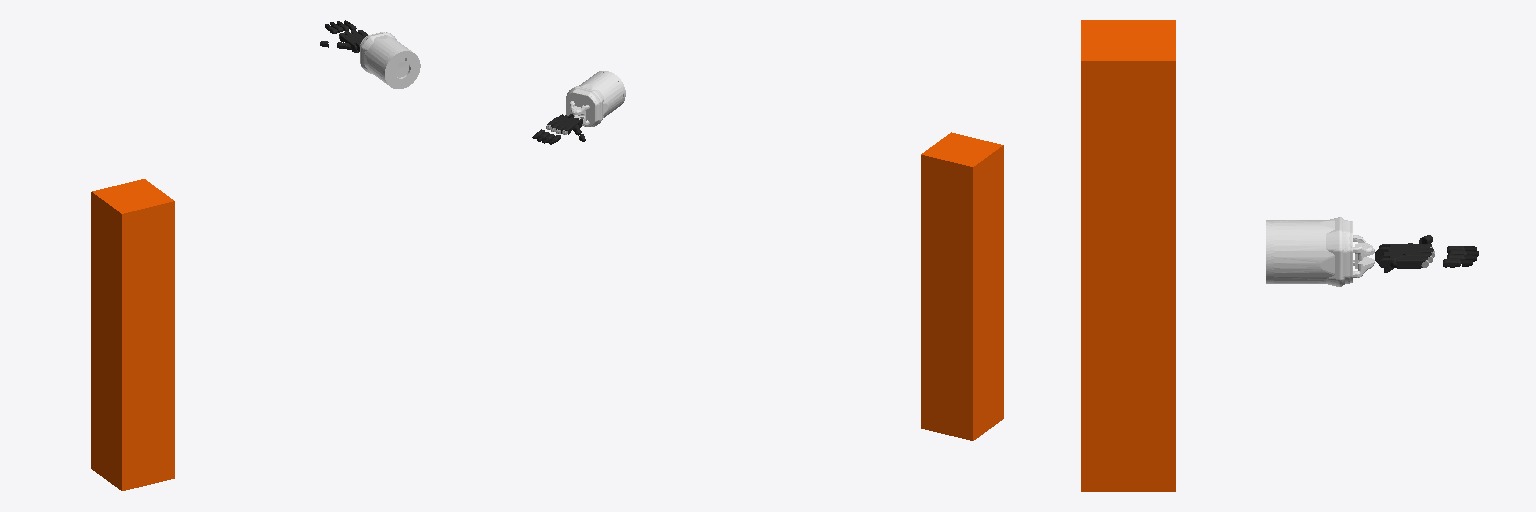
--- Facts derived from the render (not from the file) ---
Views: 3 orthographic renders of the robot side by side, from view 1: azimuth 30°, elevation 25°; view 2: azimuth 150°, elevation 25°; view 3: azimuth 270°, elevation 25°.
Model shadow_hand_on_ur10e with 45 links and 44 joints (30 revolute, 14 fixed), rooted at world, posed every joint at zero.
Links seen in each view (by area): view 1: arm_base, rh_forearm; view 2: arm_base, rh_forearm; view 3: arm_base, rh_forearm, rh_palm.
Boxes of the visible links, x1,y1,x2,y2 form: arm_base: (91, 179, 174, 490); rh_forearm: (360, 32, 420, 88); arm_base: (921, 132, 1003, 440); rh_forearm: (566, 71, 625, 126); arm_base: (1081, 20, 1175, 491); rh_forearm: (1266, 217, 1374, 286); rh_palm: (1375, 244, 1433, 272).
Bounding box of the posed robot: 1.35 × 0.8387 × 1.13 m (x, y, z).
Meshes: 18 distinct files referenced, 17 mesh visuals loaded (8 Collada DAE); not drawn: 13 (reference not matched to a file when rendering).

URDF robot description (shadow_hand_on_ur10e):
<?xml version="1.0" ?>
<!-- =================================================================================== -->
<!-- |    This document was autogenerated by xacro from shadow_hand_on_ur10e.urdf.xacro | -->
<!-- |    EDITING THIS FILE BY HAND IS NOT RECOMMENDED                                 | -->
<!-- =================================================================================== -->
<robot name="shadow_hand_on_ur10e" xmlns:controller="http://playerstage.sourceforge.net/gazebo/xmlschema/#controller" xmlns:interface="http://playerstage.sourceforge.net/gazebo/xmlschema/#interface" xmlns:sensor="http://playerstage.sourceforge.net/gazebo/xmlschema/#sensor">
  <!-- arm base, orange block/mount for ur5 or ur10 arm -->
  <!-- ################################################################### -->
  <!-- "arm base" : make box to elevate the robot arm -->
  <!-- fix arm base, so that it does not fall -->
  <link name="world"/>
  <joint name="world_to_robot" type="fixed">
    <parent link="world"/>
    <child link="arm_base"/>
    <origin rpy="0 0 0" xyz="0 0 0"/>
  </joint>
  <link name="arm_base">
    <visual>
      <origin rpy="0 0 0" xyz="0 0 0.5"/>
      <geometry>
        <box size="0.2 0.2 1.0"/>
      </geometry>
      <material name="orange">
        <!-- rviz will read this color -->
        <color rgba="1.0 0.4235294117647059 0.0392156862745098 1.0"/>
      </material>
    </visual>
    <collision>
      <origin rpy="0 0 0" xyz="0 0 0.5"/>
      <geometry>
        <box size="0.2 0.2 1.0"/>
      </geometry>
    </collision>
    <inertial>
      <origin rpy="0 0 0" xyz="0 0 0"/>
      <mass value="8.2573504e-01"/>
      <inertia ixx="2.2124416e-03" ixy="-1.2294101e-05" ixz="3.4938785e-05" iyy="2.1193702e-03" iyz="-5.0120904e-06" izz="2.0064271e-03"/>
    </inertial>
  </link>
  <gazebo reference="arm_base">
    <material>Gazebo/Orange</material>
    <!-- gazebo will read this color -->
  </gazebo>
  <!--ur10e without ros control-->
  <!-- ################################################################### -->
  <!-- ur10e arm -->
  <!--
    Base UR robot series xacro macro.

    NOTE: this is NOT a URDF. It cannot directly be loaded by consumers
    expecting a flattened '.urdf' file. See the top-level '.xacro' for that
    (but note: that .xacro must still be processed by the xacro command).

    For use in '.launch' files: use one of the 'load_urX.launch' convenience
    launch files.

    This file models the base kinematic chain of a UR robot, which then gets
    parameterised by various configuration files to convert it into a UR3(e),
    UR5(e), UR10(e) or UR16e.

    NOTE: the default kinematic parameters (ie: link lengths, frame locations,
    offets, etc) do not correspond to any particular robot. They are defaults
    only. There WILL be non-zero offsets between the Forward Kinematics results
    in TF (ie: robot_state_publisher) and the values reported by the Teach
    Pendant.

    For accurate (and robot-specific) transforms, the 'kinematics_parameters_file'
    parameter MUST point to a .yaml file containing the appropriate values for
    the targetted robot.

    If using the UniversalRobots/Universal_Robots_ROS_Driver, follow the steps
    described in the readme of that repository to extract the kinematic
    calibration from the controller and generate the required .yaml file.

    Main author of the migration to yaml configs: Ludovic Delval.

    Contributors to previous versions (in no particular order):

     - Felix Messmer
     - Kelsey Hawkins
     - Wim Meeussen
     - Shaun Edwards
     - Nadia Hammoudeh Garcia
     - Dave Hershberger
     - G. vd. Hoorn
     - Philip Long
     - Dave Coleman
     - Miguel Prada
     - Mathias Luedtke
     - Marcel Schnirring
     - Felix von Drigalski
     - Felix Exner
     - Jimmy Da Silva
     - Ajit Krisshna N L
     - Muhammad Asif Rana
  -->
  <!--
    NOTE: the macro defined in this file is NOT part of the public API of this
          package. Users CANNOT rely on this file being available, or stored in
          this location. Nor can they rely on the existence of the macro.
  -->
  <transmission name="ur10e_shoulder_pan_trans">
    <type>transmission_interface/SimpleTransmission</type>
    <joint name="ur10e_shoulder_pan_joint">
      <hardwareInterface>hardware_interface/PositionJointInterface</hardwareInterface>
    </joint>
    <actuator name="ur10e_shoulder_pan_motor">
      <mechanicalReduction>1</mechanicalReduction>
    </actuator>
  </transmission>
  <transmission name="ur10e_shoulder_lift_trans">
    <type>transmission_interface/SimpleTransmission</type>
    <joint name="ur10e_shoulder_lift_joint">
      <hardwareInterface>hardware_interface/PositionJointInterface</hardwareInterface>
    </joint>
    <actuator name="ur10e_shoulder_lift_motor">
      <mechanicalReduction>1</mechanicalReduction>
    </actuator>
  </transmission>
  <transmission name="ur10e_elbow_trans">
    <type>transmission_interface/SimpleTransmission</type>
    <joint name="ur10e_elbow_joint">
      <hardwareInterface>hardware_interface/PositionJointInterface</hardwareInterface>
    </joint>
    <actuator name="ur10e_elbow_motor">
      <mechanicalReduction>1</mechanicalReduction>
    </actuator>
  </transmission>
  <transmission name="ur10e_wrist_1_trans">
    <type>transmission_interface/SimpleTransmission</type>
    <joint name="ur10e_wrist_1_joint">
      <hardwareInterface>hardware_interface/PositionJointInterface</hardwareInterface>
    </joint>
    <actuator name="ur10e_wrist_1_motor">
      <mechanicalReduction>1</mechanicalReduction>
    </actuator>
  </transmission>
  <transmission name="ur10e_wrist_2_trans">
    <type>transmission_interface/SimpleTransmission</type>
    <joint name="ur10e_wrist_2_joint">
      <hardwareInterface>hardware_interface/PositionJointInterface</hardwareInterface>
    </joint>
    <actuator name="ur10e_wrist_2_motor">
      <mechanicalReduction>1</mechanicalReduction>
    </actuator>
  </transmission>
  <transmission name="ur10e_wrist_3_trans">
    <type>transmission_interface/SimpleTransmission</type>
    <joint name="ur10e_wrist_3_joint">
      <hardwareInterface>hardware_interface/PositionJointInterface</hardwareInterface>
    </joint>
    <actuator name="ur10e_wrist_3_motor">
      <mechanicalReduction>1</mechanicalReduction>
    </actuator>
  </transmission>
  <!-- links: main serial chain -->
  <link name="ur10e_base_link">
    <inertial>
      <mass value="0.0"/>
      <origin rpy="0 0 0" xyz="0 0 0"/>
      <inertia ixx="0.0" ixy="0.0" ixz="0.0" iyy="0.0" iyz="0.0" izz="0.0"/>
    </inertial>
  </link>
  <link name="ur10e_base_link_inertia">
    <visual>
      <origin rpy="0 0 3.141592653589793" xyz="0 0 0"/>
      <geometry>
        <mesh filename="package://ur_description/meshes/ur10e/visual/base.dae"/>
      </geometry>
      <material name="LightGrey">
        <color rgba="0.7 0.7 0.7 1.0"/>
      </material>
    </visual>
    <collision>
      <origin rpy="0 0 3.141592653589793" xyz="0 0 0"/>
      <geometry>
        <mesh filename="package://ur_description/meshes/ur10e/collision/base.stl"/>
      </geometry>
    </collision>
    <inertial>
      <mass value="4.0"/>
      <origin rpy="0 0 0" xyz="0 0 0"/>
      <inertia ixx="0.0061063308908" ixy="0.0" ixz="0.0" iyy="0.0061063308908" iyz="0.0" izz="0.01125"/>
    </inertial>
  </link>
  <link name="ur10e_shoulder_link">
    <visual>
      <origin rpy="0 0 3.141592653589793" xyz="0 0 0"/>
      <geometry>
        <mesh filename="package://ur_description/meshes/ur10e/visual/shoulder.dae"/>
      </geometry>
      <material name="LightGrey">
        <color rgba="0.7 0.7 0.7 1.0"/>
      </material>
    </visual>
    <collision>
      <origin rpy="0 0 3.141592653589793" xyz="0 0 0"/>
      <geometry>
        <mesh filename="package://ur_description/meshes/ur10e/collision/shoulder.stl"/>
      </geometry>
    </collision>
    <inertial>
      <mass value="7.778"/>
      <origin rpy="0 0 0" xyz="0 0 0"/>
      <inertia ixx="0.03147431257693659" ixy="0.0" ixz="0.0" iyy="0.03147431257693659" iyz="0.0" izz="0.021875624999999996"/>
    </inertial>
  </link>
  <link name="ur10e_upper_arm_link">
    <visual>
      <origin rpy="1.5707963267948966 0 -1.5707963267948966" xyz="0 0 0.1762"/>
      <geometry>
        <mesh filename="package://ur_description/meshes/ur10e/visual/upperarm.dae"/>
      </geometry>
      <material name="LightGrey">
        <color rgba="0.7 0.7 0.7 1.0"/>
      </material>
    </visual>
    <collision>
      <origin rpy="1.5707963267948966 0 -1.5707963267948966" xyz="0 0 0.1762"/>
      <geometry>
        <mesh filename="package://ur_description/meshes/ur10e/collision/upperarm.stl"/>
      </geometry>
    </collision>
    <inertial>
      <mass value="12.93"/>
      <origin rpy="0 1.5707963267948966 0" xyz="-0.306 0.0 0.175"/>
      <inertia ixx="0.42175380379841093" ixy="0.0" ixz="0.0" iyy="0.42175380379841093" iyz="0.0" izz="0.03636562499999999"/>
    </inertial>
  </link>
  <link name="ur10e_forearm_link">
    <visual>
      <origin rpy="1.5707963267948966 0 -1.5707963267948966" xyz="0 0 0.0393"/>
      <geometry>
        <mesh filename="package://ur_description/meshes/ur10e/visual/forearm.dae"/>
      </geometry>
      <material name="LightGrey">
        <color rgba="0.7 0.7 0.7 1.0"/>
      </material>
    </visual>
    <collision>
      <origin rpy="1.5707963267948966 0 -1.5707963267948966" xyz="0 0 0.0393"/>
      <geometry>
        <mesh filename="package://ur_description/meshes/ur10e/collision/forearm.stl"/>
      </geometry>
    </collision>
    <inertial>
      <mass value="3.87"/>
      <origin rpy="0 1.5707963267948966 0" xyz="-0.285775 0.0 0.0393"/>
      <inertia ixx="0.11079302548902206" ixy="0.0" ixz="0.0" iyy="0.11079302548902206" iyz="0.0" izz="0.010884375"/>
    </inertial>
  </link>
  <link name="ur10e_wrist_1_link">
    <visual>
      <!-- TODO: Move this to a parameter -->
      <origin rpy="1.5707963267948966 0 0" xyz="0 0 -0.135"/>
      <geometry>
        <mesh filename="package://ur_description/meshes/ur10e/visual/wrist1.dae"/>
      </geometry>
      <material name="LightGrey">
        <color rgba="0.7 0.7 0.7 1.0"/>
      </material>
    </visual>
    <collision>
      <origin rpy="1.5707963267948966 0 0" xyz="0 0 -0.135"/>
      <geometry>
        <mesh filename="package://ur_description/meshes/ur10e/collision/wrist1.stl"/>
      </geometry>
    </collision>
    <inertial>
      <mass value="1.96"/>
      <origin rpy="0 0 0" xyz="0 0 0"/>
      <inertia ixx="0.005108247956699999" ixy="0.0" ixz="0.0" iyy="0.005108247956699999" iyz="0.0" izz="0.005512499999999999"/>
    </inertial>
  </link>
  <link name="ur10e_wrist_2_link">
    <visual>
      <origin rpy="0 0 0" xyz="0 0 -0.12"/>
      <geometry>
        <mesh filename="package://ur_description/meshes/ur10e/visual/wrist2.dae"/>
      </geometry>
      <material name="LightGrey">
        <color rgba="0.7 0.7 0.7 1.0"/>
      </material>
    </visual>
    <collision>
      <origin rpy="0 0 0" xyz="0 0 -0.12"/>
      <geometry>
        <mesh filename="package://ur_description/meshes/ur10e/collision/wrist2.stl"/>
      </geometry>
    </collision>
    <inertial>
      <mass value="1.96"/>
      <origin rpy="0 0 0" xyz="0 0 0"/>
      <inertia ixx="0.005108247956699999" ixy="0.0" ixz="0.0" iyy="0.005108247956699999" iyz="0.0" izz="0.005512499999999999"/>
    </inertial>
  </link>
  <link name="ur10e_wrist_3_link">
    <visual>
      <origin rpy="1.5707963267948966 0 0" xyz="0 0 -0.1168"/>
      <geometry>
        <mesh filename="package://ur_description/meshes/ur10e/visual/wrist3.dae"/>
      </geometry>
      <material name="LightGrey">
        <color rgba="0.7 0.7 0.7 1.0"/>
      </material>
    </visual>
    <collision>
      <origin rpy="1.5707963267948966 0 0" xyz="0 0 -0.1168"/>
      <geometry>
        <mesh filename="package://ur_description/meshes/ur10e/collision/wrist3.stl"/>
      </geometry>
    </collision>
    <inertial>
      <mass value="0.202"/>
      <origin rpy="0 0 0" xyz="0.0 0.0 -0.025"/>
      <inertia ixx="0.00014434577559500002" ixy="0.0" ixz="0.0" iyy="0.00014434577559500002" iyz="0.0" izz="0.00020452500000000002"/>
    </inertial>
  </link>
  <!-- joints: main serial chain -->
  <joint name="ur10e_base_link-base_link_inertia" type="fixed">
    <parent link="ur10e_base_link"/>
    <child link="ur10e_base_link_inertia"/>
    <!-- 'base_link' is REP-103 aligned (so X+ forward), while the internal
           frames of the robot/controller have X+ pointing backwards.
           Use the joint between 'base_link' and 'base_link_inertia' (a dummy
           link/frame) to introduce the necessary rotation over Z (of pi rad).
      -->
    <origin rpy="0 0 3.141592653589793" xyz="0 0 0"/>
  </joint>
  <joint name="ur10e_shoulder_pan_joint" type="revolute">
    <parent link="ur10e_base_link_inertia"/>
    <child link="ur10e_shoulder_link"/>
    <origin rpy="0 0 0" xyz="0 0 0.1807"/>
    <axis xyz="0 0 1"/>
    <limit effort="330.0" lower="-6.283185307179586" upper="6.283185307179586" velocity="2.0943951023931953"/>
    <dynamics damping="0" friction="0"/>
  </joint>
  <joint name="ur10e_shoulder_lift_joint" type="revolute">
    <parent link="ur10e_shoulder_link"/>
    <child link="ur10e_upper_arm_link"/>
    <origin rpy="1.570796327 0 0" xyz="0 0 0"/>
    <axis xyz="0 0 1"/>
    <limit effort="330.0" lower="-6.283185307179586" upper="6.283185307179586" velocity="2.0943951023931953"/>
    <dynamics damping="0" friction="0"/>
  </joint>
  <joint name="ur10e_elbow_joint" type="revolute">
    <parent link="ur10e_upper_arm_link"/>
    <child link="ur10e_forearm_link"/>
    <origin rpy="0 0 0" xyz="-0.6127 0 0"/>
    <axis xyz="0 0 1"/>
    <limit effort="150.0" lower="-3.141592653589793" upper="3.141592653589793" velocity="3.141592653589793"/>
    <dynamics damping="0" friction="0"/>
  </joint>
  <joint name="ur10e_wrist_1_joint" type="revolute">
    <parent link="ur10e_forearm_link"/>
    <child link="ur10e_wrist_1_link"/>
    <origin rpy="0 0 0" xyz="-0.57155 0 0.17415"/>
    <axis xyz="0 0 1"/>
    <limit effort="56.0" lower="-6.283185307179586" upper="6.283185307179586" velocity="3.141592653589793"/>
    <dynamics damping="0" friction="0"/>
  </joint>
  <joint name="ur10e_wrist_2_joint" type="revolute">
    <parent link="ur10e_wrist_1_link"/>
    <child link="ur10e_wrist_2_link"/>
    <origin rpy="1.570796327 0 0" xyz="0 -0.11985 -2.458164590756244e-11"/>
    <axis xyz="0 0 1"/>
    <limit effort="56.0" lower="-6.283185307179586" upper="6.283185307179586" velocity="3.141592653589793"/>
    <dynamics damping="0" friction="0"/>
  </joint>
  <joint name="ur10e_wrist_3_joint" type="revolute">
    <parent link="ur10e_wrist_2_link"/>
    <child link="ur10e_wrist_3_link"/>
    <origin rpy="1.570796326589793 3.141592653589793 3.141592653589793" xyz="0 0.11655 -2.390480459346185e-11"/>
    <axis xyz="0 0 1"/>
    <limit effort="56.0" lower="-6.283185307179586" upper="6.283185307179586" velocity="3.141592653589793"/>
    <dynamics damping="0" friction="0"/>
  </joint>
  <!-- ROS-Industrial 'base' frame: base_link to UR 'Base' Coordinates transform -->
  <link name="ur10e_base">
    <inertial>
      <mass value="0.0"/>
      <origin rpy="0 0 0" xyz="0 0 0"/>
      <inertia ixx="0.0" ixy="0.0" ixz="0.0" iyy="0.0" iyz="0.0" izz="0.0"/>
    </inertial>
  </link>
  <joint name="ur10e_base_link-base_fixed_joint" type="fixed">
    <!-- Note the rotation over Z of pi radians: as base_link is REP-103
           aligned (ie: has X+ forward, Y+ left and Z+ up), this is needed
           to correctly align 'base' with the 'Base' coordinate system of
           the UR controller.
      -->
    <origin rpy="0 0 3.141592653589793" xyz="0 0 0"/>
    <parent link="ur10e_base_link"/>
    <child link="ur10e_base"/>
  </joint>
  <!-- ROS-Industrial 'flange' frame: attachment point for EEF models -->
  <link name="ur10e_flange">
    <inertial>
      <mass value="0.0"/>
      <origin rpy="0 0 0" xyz="0 0 0"/>
      <inertia ixx="0.0" ixy="0.0" ixz="0.0" iyy="0.0" iyz="0.0" izz="0.0"/>
    </inertial>
  </link>
  <joint name="ur10e_wrist_3-flange" type="fixed">
    <parent link="ur10e_wrist_3_link"/>
    <child link="ur10e_flange"/>
    <origin rpy="0 -1.5707963267948966 -1.5707963267948966" xyz="0 0 0"/>
  </joint>
  <!-- ROS-Industrial 'tool0' frame: all-zeros tool frame -->
  <link name="ur10e_tool0">
    <inertial>
      <mass value="0.0"/>
      <origin rpy="0 0 0" xyz="0 0 0"/>
      <inertia ixx="0.0" ixy="0.0" ixz="0.0" iyy="0.0" iyz="0.0" izz="0.0"/>
    </inertial>
  </link>
  <joint name="ur10e_flange-tool0" type="fixed">
    <!-- default toolframe: X+ left, Y+ up, Z+ front -->
    <origin rpy="1.5707963267948966 0 1.5707963267948966" xyz="0 0 0"/>
    <parent link="ur10e_flange"/>
    <child link="ur10e_tool0"/>
  </joint>
  <!-- ################################################################### -->
  <!-- attach "arm" and "arm base" -->
  <joint name="arm_base_to_arm" type="fixed">
    <parent link="arm_base"/>
    <child link="ur10e_base_link"/>
    <origin rpy="0 0 0" xyz="0 0 1.0"/>
  </joint>
  <material name="Blue">
    <color rgba="0.0 0.0 0.8 1.0"/>
  </material>
  <material name="Green">
    <color rgba="0.0 0.8 0.0 1.0"/>
  </material>
  <material name="BiotacGreen">
    <color rgba="0.31 0.85 0.42 1.0"/>
  </material>
  <material name="Grey">
    <color rgba="0.2 0.2 0.2 1.0"/>
  </material>
  <material name="LightGrey">
    <color rgba="0.6 0.6 0.6 1.0"/>
  </material>
  <material name="Red">
    <color rgba="0.8 0.0 0.0 1.0"/>
  </material>
  <material name="White">
    <color rgba="1.0 1.0 1.0 1.0"/>
  </material>
  <gazebo>
    <plugin filename="libgazebo_ros_control.so" name="gazebo_ros_control">
      <robotSimType>sr_gazebo_sim/SrGazeboHWSim</robotSimType>
    </plugin>
  </gazebo>
  <link name="rh_forearm">
    <inertial>
      <origin rpy="0 0 0" xyz="0 0 0.09"/>
      <mass value="3.0"/>
      <inertia ixx="0.0138" ixy="0.0" ixz="0.0" iyy="0.0138" iyz="0.0" izz="0.00744"/>
    </inertial>
    <visual>
      <origin rpy="0 0 0" xyz="0 0 0.0"/>
      <geometry name="rh_forearm_visual">
        <mesh filename="package://sr_description/meshes/components/forearm/forearm_E3M5.dae" scale="0.001 0.001 0.001"/>
      </geometry>
      <material name="light_grey">
        <color rgba="0.90000 0.90000 0.90000 1.0"/>
      </material>
    </visual>
    <collision>
      <origin rpy="0 0 0" xyz="0 0 0.0"/>
      <geometry name="rh_forearm_collision">
        <mesh filename="package://sr_description/meshes/components/forearm/forearm_collision_E3M5.dae" scale="0.001 0.001 0.001"/>
      </geometry>
    </collision>
    <!-- wrist mount -->
    <collision>
      <origin rpy="0 0.78 0" xyz="0 -0.01 0.181"/>
      <geometry>
        <box size="0.07 0.07 0.07"/>
      </geometry>
    </collision>
    <!-- TODO: Make a decision on whether to add the connector or not -->
    <!--visual>
        <origin rpy="0 -1.57 -1.57" xyz="0.0 0.067 0.0045"/>
        <geometry name="${prefix}cable_extr_visualisation">
          <mesh filename="package://sr_description/meshes/components/cable_connector/cable_connector_base_${hand_version}.dae" scale="0.001 0.001 0.001" />
        </geometry>
      </visual-->
  </link>
  <gazebo reference="rh_forearm">
    <selfCollide>false</selfCollide>
  </gazebo>
  <link name="rh_wrist">
    <inertial>
      <origin rpy="0 0 0" xyz="0 0 0.029"/>
      <mass value="0.1"/>
      <inertia ixx="0.000035" ixy="0.0" ixz="0.0" iyy="0.000064" iyz="0.0" izz="0.0000438"/>
    </inertial>
    <visual>
      <origin rpy="0 0 0" xyz="0 0 0"/>
      <geometry name="rh_wrist_visual">
        <mesh filename="package://sr_description/meshes/components/wrist/wrist_E3M5.dae" scale="0.001 0.001 0.001"/>
      </geometry>
      <material name="LightGrey"/>
    </visual>
    <collision>
      <origin rpy="1.5708 1.5708 0" xyz="0 0 0"/>
      <geometry name="rh_wrist_collision_geom">
        <cylinder length="0.030" radius="0.0135"/>
      </geometry>
    </collision>
    <collision>
      <origin rpy="0 1.5708 0" xyz="-0.026 0 0.034"/>
      <geometry>
        <cylinder length="0.010" radius="0.011"/>
      </geometry>
    </collision>
    <collision>
      <origin rpy="0 1.5708 0" xyz="0.031 0 0.034"/>
      <geometry>
        <cylinder length="0.010" radius="0.011"/>
      </geometry>
    </collision>
    <collision>
      <origin rpy="0 0.7854 0" xyz="-0.021 0 0.011"/>
      <geometry>
        <box size="0.027 0.018 0.010"/>
      </geometry>
    </collision>
    <collision>
      <origin rpy="0 -0.7854 0" xyz="0.026 0 0.010"/>
      <geometry>
        <box size="0.027 0.018 0.010"/>
      </geometry>
    </collision>
  </link>
  <gazebo reference="rh_wrist">
    <material>Gazebo/White</material>
    <selfCollide>false</selfCollide>
  </gazebo>
  <joint name="rh_WRJ2" type="revolute">
    <parent link="rh_forearm"/>
    <child link="rh_wrist"/>
    <origin rpy="0 0 0" xyz="0 -0.010 0.21301"/>
    <axis xyz="0 1 0"/>
    <limit effort="10" lower="-0.5235987755982988" upper="0.17453292519943295" velocity="2.0"/>
    <dynamics damping="0.1"/>
  </joint>
  <gazebo reference="rh_WRJ2">
    <provideFeedback>1</provideFeedback>
    <implicitSpringDamper>1</implicitSpringDamper>
  </gazebo>
  <transmission name="rh_wrist_transmission">
    <type>sr_mechanism_model/SimpleTransmission</type>
    <actuator name="rh_WRJ2">
      <mechanicalReduction>1</mechanicalReduction>
    </actuator>
    <joint name="rh_WRJ2">
      <hardwareInterface>EffortJointInterface</hardwareInterface>
      <hardwareInterface>PositionJointInterface</hardwareInterface>
    </joint>
  </transmission>
  <link name="rh_palm">
    <inertial>
      <origin rpy="0 0 0" xyz="0 0 0.035"/>
      <mass value="0.3"/>
      <inertia ixx="0.0003581" ixy="0.0" ixz="0.0" iyy="0.0005287" iyz="0.0" izz="0.000191"/>
    </inertial>
    <visual>
      <origin rpy="0 0 0" xyz="0 0 0"/>
      <geometry name="rh_palm_visual">
        <mesh filename="package://sr_description/meshes/components/palm/palm_E3M5.dae" scale="0.001 0.001 0.001"/>
      </geometry>
      <material name="Grey"/>
    </visual>
    <collision>
      <origin rpy="0 0 0" xyz="0.011 0.0085 0.038"/>
      <geometry name="rh_palm_collision_geom">
        <box size="0.062 0.007 0.098"/>
      </geometry>
    </collision>
    <collision>
      <origin rpy="0 0 0" xyz="-0.002 -0.0035 0.038"/>
      <geometry>
        <box size="0.036 0.017 0.098"/>
      </geometry>
    </collision>
    <!-- palm complement below first finger -->
    <collision>
      <origin rpy="0 0 0" xyz="0.029 -0.0035 0.082"/>
      <geometry>
        <box size="0.026 0.017 0.010"/>
      </geometry>
    </collision>
    <collision>
      <origin rpy="0.2 0 0.25" xyz="0.0265 -0.001 0.070"/>
      <geometry>
        <box size="0.026 0.014 0.018"/>
      </geometry>
    </collision>
    <!-- thumb pulp side -->
    <collision>
      <origin rpy="0 0 0" xyz="0.0315 -0.0085 0.001"/>
      <geometry>
        <box size="0.021 0.027 0.024"/>
      </geometry>
    </collision>
    <!-- thumb pulp central -->
    <collision>
      <origin rpy="0 0 -0.48" xyz="0.0125 -0.015 0.009"/>
      <geometry>
        <box size="0.022 0.005 0.040"/>
      </geometry>
    </collision>
    <!-- above middle finger-->
    <collision>
      <origin rpy="0 0 0" xyz="0.011 0 0.089"/>
      <geometry>
        <box size="0.018 0.024 0.004"/>
      </geometry>
    </collision>
    <!-- metacarpal side-->
    <collision>
      <origin rpy="0 0 0" xyz="-0.03 0 0.009"/>
      <geometry>
        <box size="0.020 0.024 0.040"/>
      </geometry>
    </collision>
  </link>
  <joint name="rh_ee_fixed_joint" type="fixed">
    <parent link="rh_palm"/>
    <child link="rh_manipulator"/>
    <origin rpy="0.0 0.0 0.0" xyz="0.0 0.0 0.05"/>
  </joint>
  <link name="rh_manipulator">
    <inertial>
      <mass value="0.0"/>
      <origin rpy="0 0 0" xyz="0 0 0"/>
      <inertia ixx="0.0" ixy="0.0" ixz="0.0" iyy="0.0" iyz="0.0" izz="0.0"/>
    </inertial>
  </link>
  <joint name="rh_WRJ1" type="revolute">
    <parent link="rh_wrist"/>
    <child link="rh_palm"/>
    <origin rpy="0 0 0" xyz="0 0 0.034"/>
    <axis xyz="1 0 0"/>
    <limit effort="30" lower="-0.6981317007977318" upper="0.4886921905584123" velocity="2.0"/>
    <dynamics damping="0.1"/>
  </joint>
  <gazebo reference="rh_WRJ1">
    <provideFeedback>1</provideFeedback>
    <implicitSpringDamper>1</implicitSpringDamper>
  </gazebo>
  <link name="rh_imu">
    <inertial>
      <mass value="0.0"/>
      <origin rpy="0 0 0" xyz="0 0 0"/>
      <inertia ixx="0.0" ixy="0.0" ixz="0.0" iyy="0.0" iyz="0.0" izz="0.0"/>
    </inertial>
  </link>
  <joint name="rh_palm_to_imu" type="fixed">
    <parent link="rh_palm"/>
    <child link="rh_imu"/>
    <origin rpy="-1.5707963 3.141592 0.0" xyz="0.01785 0.00765 0.049125"/>
  </joint>
  <transmission name="rh_palm_transmission">
    <type>sr_mechanism_model/SimpleTransmission</type>
    <actuator name="rh_WRJ1">
      <mechanicalReduction>1</mechanicalReduction>
    </actuator>
    <joint name="rh_WRJ1">
      <hardwareInterface>EffortJointInterface</hardwareInterface>
      <hardwareInterface>PositionJointInterface</hardwareInterface>
    </joint>
  </transmission>
  <gazebo reference="rh_palm">
  </gazebo>
  <link name="rh_ffknuckle">
    <inertial>
      <origin rpy="0 0 0" xyz="0 0 0"/>
      <mass value="0.008"/>
      <inertia ixx="0.00000026" ixy="0.0" ixz="0.0" iyy="0.00000026" iyz="0.0" izz="0.00000032"/>
    </inertial>
    <visual>
      <origin rpy="0 0 0" xyz="0 0 0.0005"/>
      <geometry name="rh_ffknuckle_visual">
        <mesh filename="package://sr_description/meshes/components/f_knuckle/f_knuckle_E3M5.dae" scale="0.001 0.001 0.001"/>
      </geometry>
      <material name="LightGrey"/>
    </visual>
    <collision>
      <origin rpy="0 1.5708 0" xyz="0 0 0"/>
      <geometry name="rh_ffknuckle_collision_geom">
        <cylinder length="0.014" radius="0.007"/>
      </geometry>
    </collision>
  </link>
  <joint name="rh_FFJ4" type="revolute">
    <parent link="rh_palm"/>
    <child link="rh_ffknuckle"/>
    <!--<origin xyz="0.033 0 0.095" rpy="0 0 0" />-->
    <origin rpy="0 0 0" xyz="0.033 0 0.095"/>
    <axis xyz="0 -1 0"/>
    <limit effort="2" lower="-0.3490658503988659" upper="0.3490658503988659" velocity="2.0"/>
    <dynamics damping="0.1"/>
  </joint>
  <gazebo reference="rh_FFJ4">
    <provideFeedback>1</provideFeedback>
    <implicitSpringDamper>1</implicitSpringDamper>
  </gazebo>
  <transmission name="rh_ffknuckle_transmission">
    <type>sr_mechanism_model/SimpleTransmission</type>
    <actuator name="rh_FFJ4">
      <mechanicalReduction>1</mechanicalReduction>
    </actuator>
    <joint name="rh_FFJ4">
      <hardwareInterface>EffortJointInterface</hardwareInterface>
      <hardwareInterface>PositionJointInterface</hardwareInterface>
    </joint>
  </transmission>
  <gazebo reference="rh_ffknuckle">
    <!-- knuckle is not highly exposed, so bumper is not useful -->
    <material>Gazebo/Grey</material>
  </gazebo>
  <link name="rh_ffproximal">
    <inertial>
      <mass value="0.030"/>
      <origin xyz="0 0 0.0225"/>
      <inertia ixx="0.0000098" ixy="0.0" ixz="0.0" iyy="0.00001" iyz="0.0" izz="0.0000018"/>
    </inertial>
    <visual>
      <origin rpy="0 0 0" xyz="0 0 0"/>
      <geometry name="rh_ffproximal_visual">
        <mesh filename="package://sr_description/meshes/components/f_proximal/f_proximal_E3M5.dae" scale="0.001 0.001 0.001"/>
      </geometry>
      <material name="Grey"/>
    </visual>
    <collision>
      <origin rpy="0 0 0" xyz="0 0 0.025"/>
      <geometry name="rh_ffproximal_collision_geom">
        <cylinder length="0.040" radius="0.007"/>
      </geometry>
    </collision>
  </link>
  <joint name="rh_FFJ3" type="revolute">
    <parent link="rh_ffknuckle"/>
    <child link="rh_ffproximal"/>
    <origin rpy="0 0 0" xyz="0 0 0"/>
    <axis xyz="1 0 0"/>
    <limit effort="2" lower="-0.2617993877991494" upper="1.5707963267948966" velocity="2.0"/>
    <dynamics damping="0.1"/>
  </joint>
  <gazebo reference="rh_FFJ3">
    <provideFeedback>1</provideFeedback>
    <implicitSpringDamper>1</implicitSpringDamper>
  </gazebo>
  <transmission name="rh_ffproximal_transmission">
    <type>sr_mechanism_model/SimpleTransmission</type>
    <actuator name="rh_FFJ3">
      <mechanicalReduction>1</mechanicalReduction>
    </actuator>
    <joint name="rh_FFJ3">
      <hardwareInterface>EffortJointInterface</hardwareInterface>
      <hardwareInterface>PositionJointInterface</hardwareInterface>
    </joint>
  </transmission>
  <gazebo reference="rh_ffproximal">
    <selfCollide>true</selfCollide>
  </gazebo>
  <link name="rh_ffmiddle">
    <inertial>
      <origin rpy="0 0 0" xyz="0 0 0.0125"/>
      <mass value="0.017"/>
      <inertia ixx="0.0000026" ixy="0.0" ixz="0.0" iyy="0.0000027" iyz="0.0" izz="0.00000087"/>
    </inertial>
    <visual>
      <origin rpy="0 0 0" xyz="0 0 0"/>
      <geometry name="rh_ffmiddle_visual">
        <mesh filename="package://sr_description/meshes/components/f_middle/f_middle_E3M5.dae" scale="0.001 0.001 0.001"/>
      </geometry>
      <material name="Grey"/>
    </visual>
    <collision>
      <origin rpy="0 0 0" xyz="0 0 0.0125"/>
      <geometry name="rh_ffmiddle_collision_geom">
        <cylinder length="0.025" radius="0.007"/>
      </geometry>
    </collision>
    <collision>
      <origin rpy="0 0 0" xyz="0 0 0.0"/>
      <geometry>
        <sphere radius="0.007"/>
      </geometry>
    </collision>
    <collision>
      <origin rpy="0 0 0" xyz="0 0 0.025"/>
      <geometry>
        <sphere radius="0.007"/>
      </geometry>
    </collision>
  </link>
  <joint name="rh_FFJ2" type="revolute">
    <parent link="rh_ffproximal"/>
    <child link="rh_ffmiddle"/>
    <origin rpy="0 0 0" xyz="0 0 0.045"/>
    <axis xyz="1 0 0"/>
    <limit effort="2" lower="0" upper="1.5707963267948966" velocity="2.0"/>
    <dynamics damping="0.1"/>
  </joint>
  <gazebo reference="rh_FFJ2">
    <provideFeedback>1</provideFeedback>
    <implicitSpringDamper>1</implicitSpringDamper>
  </gazebo>
  <transmission name="rh_ffmiddle_transmission">
    <type>sr_mechanism_model/J0Transmission</type>
    <actuator name="rh_FFJ0">
      <mechanicalReduction>1</mechanicalReduction>
    </actuator>
    <joint name="rh_FFJ1">
      <hardwareInterface>EffortJointInterface</hardwareInterface>
      <hardwareInterface>PositionJointInterface</hardwareInterface>
    </joint>
  </transmission>
  <gazebo reference="rh_ffmiddle">
    <selfCollide>true</selfCollide>
  </gazebo>
  <link name="rh_ffdistal">
    <inertial>
      <mass value="0.012"/>
      <origin xyz="0 0 0.012"/>
      <inertia ixx="0.00000094" ixy="0.0" ixz="0.0" iyy="0.0000011" iyz="0.0" izz="0.00000053"/>
    </inertial>
    <visual>
      <origin rpy="0 0 0" xyz="0 0 0"/>
      <geometry name="rh_ffdistal_visual">
        <mesh filename="package://sr_description/meshes/components/f_distal/pst/f_distal_pst.dae" scale="0.001 0.001 0.001"/>
      </geometry>
    </visual>
    <collision>
      <origin rpy="0 0 0" xyz="0 0 0"/>
      <geometry name="rh_ffdistal_collision_geom">
        <mesh filename="package://sr_description/meshes/components/f_distal/pst/f_distal_pst.dae" scale="0.001 0.001 0.001"/>
      </geometry>
    </collision>
  </link>
  <joint name="rh_FFJ1" type="revolute">
    <parent link="rh_ffmiddle"/>
    <child link="rh_ffdistal"/>
    <origin rpy="0 0 0" xyz="0 0 0.025"/>
    <axis xyz="1 0 0"/>
    <!-- standard distal joint -->
    <limit effort="2" lower="0" upper="1.5707963267948966" velocity="2.0"/>
    <dynamics damping="0.1"/>
  </joint>
  <gazebo reference="rh_FFJ1">
    <provideFeedback>1</provideFeedback>
    <implicitSpringDamper>1</implicitSpringDamper>
  </gazebo>
  <link name="rh_fftip">
    <inertial>
      <mass value="0.001"/>
      <inertia ixx="0.0" ixy="0.0" ixz="0.0" iyy="0.0" iyz="0.0" izz="0.0"/>
    </inertial>
  </link>
  <joint name="rh_FFtip" type="fixed">
    <parent link="rh_ffdistal"/>
    <child link="rh_fftip"/>
    <origin rpy="0 0 0" xyz="0 0 0.026"/>
  </joint>
  <gazebo reference="rh_ffdistal">
    <sensor name="rh_ffdistal_contact" type="contact">
      <always_on>1</always_on>
      <update_rate>1000.0</update_rate>
      <contact>
        <collision>rh_ffdistal_collision</collision>
        <topic>rh_ffdistal_collision</topic>
      </contact>
      <plugin filename="libgazebo_ros_bumper.so" name="rh_ffdistal_gazebo_ros_bumper_controller">
        <alwaysOn>true</alwaysOn>
        <frameName>rh_ffdistal</frameName>
        <updateRate>100.0</updateRate>
        <bumperTopicName>contacts/rh_ff/distal</bumperTopicName>
      </plugin>
    </sensor>
    <mu1 value="500.0"/>
    <mu2 value="500.0"/>
    <kp value="10000000.0"/>
    <kd value="1.0"/>
    <selfCollide>true</selfCollide>
  </gazebo>
  <link name="rh_mfknuckle">
    <inertial>
      <origin rpy="0 0 0" xyz="0 0 0"/>
      <mass value="0.008"/>
      <inertia ixx="0.00000026" ixy="0.0" ixz="0.0" iyy="0.00000026" iyz="0.0" izz="0.00000032"/>
    </inertial>
    <visual>
      <origin rpy="0 0 0" xyz="0 0 0.0005"/>
      <geometry name="rh_mfknuckle_visual">
        <mesh filename="package://sr_description/meshes/components/f_knuckle/f_knuckle_E3M5.dae" scale="0.001 0.001 0.001"/>
      </geometry>
      <material name="LightGrey"/>
    </visual>
    <collision>
      <origin rpy="0 1.5708 0" xyz="0 0 0"/>
      <geometry name="rh_mfknuckle_collision_geom">
        <cylinder length="0.014" radius="0.007"/>
      </geometry>
    </collision>
  </link>
  <joint name="rh_MFJ4" type="revolute">
    <parent link="rh_palm"/>
    <child link="rh_mfknuckle"/>
    <!--<origin xyz="0.033 0 0.095" rpy="0 0 0" />-->
    <origin rpy="0 0 0" xyz="0.011 0 0.099"/>
    <axis xyz="0 -1 0"/>
    <limit effort="2" lower="-0.3490658503988659" upper="0.3490658503988659" velocity="2.0"/>
    <dynamics damping="0.1"/>
  </joint>
  <gazebo reference="rh_MFJ4">
    <provideFeedback>1</provideFeedback>
    <implicitSpringDamper>1</implicitSpringDamper>
  </gazebo>
  <transmission name="rh_mfknuckle_transmission">
    <type>sr_mechanism_model/SimpleTransmission</type>
    <actuator name="rh_MFJ4">
      <mechanicalReduction>1</mechanicalReduction>
    </actuator>
    <joint name="rh_MFJ4">
      <hardwareInterface>EffortJointInterface</hardwareInterface>
      <hardwareInterface>PositionJointInterface</hardwareInterface>
    </joint>
  </transmission>
  <gazebo reference="rh_mfknuckle">
    <!-- knuckle is not highly exposed, so bumper is not useful -->
    <material>Gazebo/Grey</material>
  </gazebo>
  <link name="rh_mfproximal">
    <inertial>
      <mass value="0.030"/>
      <origin xyz="0 0 0.0225"/>
      <inertia ixx="0.0000098" ixy="0.0" ixz="0.0" iyy="0.00001" iyz="0.0" izz="0.0000018"/>
    </inertial>
    <visual>
      <origin rpy="0 0 0" xyz="0 0 0"/>
      <geometry name="rh_mfproximal_visual">
        <mesh filename="package://sr_description/meshes/components/f_proximal/f_proximal_E3M5.dae" scale="0.001 0.001 0.001"/>
      </geometry>
      <material name="Grey"/>
    </visual>
    <collision>
      <origin rpy="0 0 0" xyz="0 0 0.025"/>
      <geometry name="rh_mfproximal_collision_geom">
        <cylinder length="0.040" radius="0.007"/>
      </geometry>
    </collision>
  </link>
  <joint name="rh_MFJ3" type="revolute">
    <parent link="rh_mfknuckle"/>
    <child link="rh_mfproximal"/>
    <origin rpy="0 0 0" xyz="0 0 0"/>
    <axis xyz="1 0 0"/>
    <limit effort="2" lower="-0.2617993877991494" upper="1.5707963267948966" velocity="2.0"/>
    <dynamics damping="0.1"/>
  </joint>
  <gazebo reference="rh_MFJ3">
    <provideFeedback>1</provideFeedback>
    <implicitSpringDamper>1</implicitSpringDamper>
  </gazebo>
  <transmission name="rh_mfproximal_transmission">
    <type>sr_mechanism_model/SimpleTransmission</type>
    <actuator name="rh_MFJ3">
      <mechanicalReduction>1</mechanicalReduction>
    </actuator>
    <joint name="rh_MFJ3">
      <hardwareInterface>EffortJointInterface</hardwareInterface>
      <hardwareInterface>PositionJointInterface</hardwareInterface>
    </joint>
  </transmission>
  <gazebo reference="rh_mfproximal">
    <selfCollide>true</selfCollide>
  </gazebo>
  <link name="rh_mfmiddle">
    <inertial>
      <origin rpy="0 0 0" xyz="0 0 0.0125"/>
      <mass value="0.017"/>
      <inertia ixx="0.0000026" ixy="0.0" ixz="0.0" iyy="0.0000027" iyz="0.0" izz="0.00000087"/>
    </inertial>
    <visual>
      <origin rpy="0 0 0" xyz="0 0 0"/>
      <geometry name="rh_mfmiddle_visual">
        <mesh filename="package://sr_description/meshes/components/f_middle/f_middle_E3M5.dae" scale="0.001 0.001 0.001"/>
      </geometry>
      <material name="Grey"/>
    </visual>
    <collision>
      <origin rpy="0 0 0" xyz="0 0 0.0125"/>
      <geometry name="rh_mfmiddle_collision_geom">
        <cylinder length="0.025" radius="0.007"/>
      </geometry>
    </collision>
    <collision>
      <origin rpy="0 0 0" xyz="0 0 0.0"/>
      <geometry>
        <sphere radius="0.007"/>
      </geometry>
    </collision>
    <collision>
      <origin rpy="0 0 0" xyz="0 0 0.025"/>
      <geometry>
        <sphere radius="0.007"/>
      </geometry>
    </collision>
  </link>
  <joint name="rh_MFJ2" type="revolute">
    <parent link="rh_mfproximal"/>
    <child link="rh_mfmiddle"/>
    <origin rpy="0 0 0" xyz="0 0 0.045"/>
    <axis xyz="1 0 0"/>
    <limit effort="2" lower="0" upper="1.5707963267948966" velocity="2.0"/>
    <dynamics damping="0.1"/>
  </joint>
  <gazebo reference="rh_MFJ2">
    <provideFeedback>1</provideFeedback>
    <implicitSpringDamper>1</implicitSpringDamper>
  </gazebo>
  <transmission name="rh_mfmiddle_transmission">
    <type>sr_mechanism_model/J0Transmission</type>
    <actuator name="rh_MFJ0">
      <mechanicalReduction>1</mechanicalReduction>
    </actuator>
    <joint name="rh_MFJ1">
      <hardwareInterface>EffortJointInterface</hardwareInterface>
      <hardwareInterface>PositionJointInterface</hardwareInterface>
    </joint>
  </transmission>
  <gazebo reference="rh_mfmiddle">
    <selfCollide>true</selfCollide>
  </gazebo>
  <link name="rh_mfdistal">
    <inertial>
      <mass value="0.012"/>
      <origin xyz="0 0 0.012"/>
      <inertia ixx="0.00000094" ixy="0.0" ixz="0.0" iyy="0.0000011" iyz="0.0" izz="0.00000053"/>
    </inertial>
    <visual>
      <origin rpy="0 0 0" xyz="0 0 0"/>
      <geometry name="rh_mfdistal_visual">
        <mesh filename="package://sr_description/meshes/components/f_distal/pst/f_distal_pst.dae" scale="0.001 0.001 0.001"/>
      </geometry>
    </visual>
    <collision>
      <origin rpy="0 0 0" xyz="0 0 0"/>
      <geometry name="rh_mfdistal_collision_geom">
        <mesh filename="package://sr_description/meshes/components/f_distal/pst/f_distal_pst.dae" scale="0.001 0.001 0.001"/>
      </geometry>
    </collision>
  </link>
  <joint name="rh_MFJ1" type="revolute">
    <parent link="rh_mfmiddle"/>
    <child link="rh_mfdistal"/>
    <origin rpy="0 0 0" xyz="0 0 0.025"/>
    <axis xyz="1 0 0"/>
    <!-- standard distal joint -->
    <limit effort="2" lower="0" upper="1.5707963267948966" velocity="2.0"/>
    <dynamics damping="0.1"/>
  </joint>
  <gazebo reference="rh_MFJ1">
    <provideFeedback>1</provideFeedback>
    <implicitSpringDamper>1</implicitSpringDamper>
  </gazebo>
  <link name="rh_mftip">
    <inertial>
      <mass value="0.001"/>
      <inertia ixx="0.0" ixy="0.0" ixz="0.0" iyy="0.0" iyz="0.0" izz="0.0"/>
    </inertial>
  </link>
  <joint name="rh_MFtip" type="fixed">
    <parent link="rh_mfdistal"/>
    <child link="rh_mftip"/>
    <origin rpy="0 0 0" xyz="0 0 0.026"/>
  </joint>
  <gazebo reference="rh_mfdistal">
    <sensor name="rh_mfdistal_contact" type="contact">
      <always_on>1</always_on>
      <update_rate>1000.0</update_rate>
      <contact>
        <collision>rh_mfdistal_collision</collision>
        <topic>rh_mfdistal_collision</topic>
      </contact>
      <plugin filename="libgazebo_ros_bumper.so" name="rh_mfdistal_gazebo_ros_bumper_controller">
        <alwaysOn>true</alwaysOn>
        <frameName>rh_mfdistal</frameName>
        <updateRate>100.0</updateRate>
        <bumperTopicName>contacts/rh_mf/distal</bumperTopicName>
      </plugin>
    </sensor>
    <mu1 value="500.0"/>
    <mu2 value="500.0"/>
    <kp value="10000000.0"/>
    <kd value="1.0"/>
    <selfCollide>true</selfCollide>
  </gazebo>
  <link name="rh_rfknuckle">
    <inertial>
      <origin rpy="0 0 0" xyz="0 0 0"/>
      <mass value="0.008"/>
      <inertia ixx="0.00000026" ixy="0.0" ixz="0.0" iyy="0.00000026" iyz="0.0" izz="0.00000032"/>
    </inertial>
    <visual>
      <origin rpy="0 0 0" xyz="0 0 0.0005"/>
      <geometry name="rh_rfknuckle_visual">
        <mesh filename="package://sr_description/meshes/components/f_knuckle/f_knuckle_E3M5.dae" scale="0.001 0.001 0.001"/>
      </geometry>
      <material name="LightGrey"/>
    </visual>
    <collision>
      <origin rpy="0 1.5708 0" xyz="0 0 0"/>
      <geometry name="rh_rfknuckle_collision_geom">
        <cylinder length="0.014" radius="0.007"/>
      </geometry>
    </collision>
  </link>
  <joint name="rh_RFJ4" type="revolute">
    <parent link="rh_palm"/>
    <child link="rh_rfknuckle"/>
    <!--<origin xyz="0.033 0 0.095" rpy="0 0 0" />-->
    <origin rpy="0 0 0" xyz="-0.011 0 0.095"/>
    <axis xyz="0 1 0"/>
    <limit effort="2" lower="-0.3490658503988659" upper="0.3490658503988659" velocity="2.0"/>
    <dynamics damping="0.1"/>
  </joint>
  <gazebo reference="rh_RFJ4">
    <provideFeedback>1</provideFeedback>
    <implicitSpringDamper>1</implicitSpringDamper>
  </gazebo>
  <transmission name="rh_rfknuckle_transmission">
    <type>sr_mechanism_model/SimpleTransmission</type>
    <actuator name="rh_RFJ4">
      <mechanicalReduction>1</mechanicalReduction>
    </actuator>
    <joint name="rh_RFJ4">
      <hardwareInterface>EffortJointInterface</hardwareInterface>
      <hardwareInterface>PositionJointInterface</hardwareInterface>
    </joint>
  </transmission>
  <gazebo reference="rh_rfknuckle">
    <!-- knuckle is not highly exposed, so bumper is not useful -->
    <material>Gazebo/Grey</material>
  </gazebo>
  <link name="rh_rfproximal">
    <inertial>
      <mass value="0.030"/>
      <origin xyz="0 0 0.0225"/>
      <inertia ixx="0.0000098" ixy="0.0" ixz="0.0" iyy="0.00001" iyz="0.0" izz="0.0000018"/>
    </inertial>
    <visual>
      <origin rpy="0 0 0" xyz="0 0 0"/>
      <geometry name="rh_rfproximal_visual">
        <mesh filename="package://sr_description/meshes/components/f_proximal/f_proximal_E3M5.dae" scale="0.001 0.001 0.001"/>
      </geometry>
      <material name="Grey"/>
    </visual>
    <collision>
      <origin rpy="0 0 0" xyz="0 0 0.025"/>
      <geometry name="rh_rfproximal_collision_geom">
        <cylinder length="0.040" radius="0.007"/>
      </geometry>
    </collision>
  </link>
  <joint name="rh_RFJ3" type="revolute">
    <parent link="rh_rfknuckle"/>
    <child link="rh_rfproximal"/>
    <origin rpy="0 0 0" xyz="0 0 0"/>
    <axis xyz="1 0 0"/>
    <limit effort="2" lower="-0.2617993877991494" upper="1.5707963267948966" velocity="2.0"/>
    <dynamics damping="0.1"/>
  </joint>
  <gazebo reference="rh_RFJ3">
    <provideFeedback>1</provideFeedback>
    <implicitSpringDamper>1</implicitSpringDamper>
  </gazebo>
  <transmission name="rh_rfproximal_transmission">
    <type>sr_mechanism_model/SimpleTransmission</type>
    <actuator name="rh_RFJ3">
      <mechanicalReduction>1</mechanicalReduction>
    </actuator>
    <joint name="rh_RFJ3">
      <hardwareInterface>EffortJointInterface</hardwareInterface>
      <hardwareInterface>PositionJointInterface</hardwareInterface>
    </joint>
  </transmission>
  <gazebo reference="rh_rfproximal">
    <selfCollide>true</selfCollide>
  </gazebo>
  <link name="rh_rfmiddle">
    <inertial>
      <origin rpy="0 0 0" xyz="0 0 0.0125"/>
      <mass value="0.017"/>
      <inertia ixx="0.0000026" ixy="0.0" ixz="0.0" iyy="0.0000027" iyz="0.0" izz="0.00000087"/>
    </inertial>
    <visual>
      <origin rpy="0 0 0" xyz="0 0 0"/>
      <geometry name="rh_rfmiddle_visual">
        <mesh filename="package://sr_description/meshes/components/f_middle/f_middle_E3M5.dae" scale="0.001 0.001 0.001"/>
      </geometry>
      <material name="Grey"/>
    </visual>
    <collision>
      <origin rpy="0 0 0" xyz="0 0 0.0125"/>
      <geometry name="rh_rfmiddle_collision_geom">
        <cylinder length="0.025" radius="0.007"/>
      </geometry>
    </collision>
    <collision>
      <origin rpy="0 0 0" xyz="0 0 0.0"/>
      <geometry>
        <sphere radius="0.007"/>
      </geometry>
    </collision>
    <collision>
      <origin rpy="0 0 0" xyz="0 0 0.025"/>
      <geometry>
        <sphere radius="0.007"/>
      </geometry>
    </collision>
  </link>
  <joint name="rh_RFJ2" type="revolute">
    <parent link="rh_rfproximal"/>
    <child link="rh_rfmiddle"/>
    <origin rpy="0 0 0" xyz="0 0 0.045"/>
    <axis xyz="1 0 0"/>
    <limit effort="2" lower="0" upper="1.5707963267948966" velocity="2.0"/>
    <dynamics damping="0.1"/>
  </joint>
  <gazebo reference="rh_RFJ2">
    <provideFeedback>1</provideFeedback>
    <implicitSpringDamper>1</implicitSpringDamper>
  </gazebo>
  <transmission name="rh_rfmiddle_transmission">
    <type>sr_mechanism_model/J0Transmission</type>
    <actuator name="rh_RFJ0">
      <mechanicalReduction>1</mechanicalReduction>
    </actuator>
    <joint name="rh_RFJ1">
      <hardwareInterface>EffortJointInterface</hardwareInterface>
      <hardwareInterface>PositionJointInterface</hardwareInterface>
    </joint>
  </transmission>
  <gazebo reference="rh_rfmiddle">
    <selfCollide>true</selfCollide>
  </gazebo>
  <link name="rh_rfdistal">
    <inertial>
      <mass value="0.012"/>
      <origin xyz="0 0 0.012"/>
      <inertia ixx="0.00000094" ixy="0.0" ixz="0.0" iyy="0.0000011" iyz="0.0" izz="0.00000053"/>
    </inertial>
    <visual>
      <origin rpy="0 0 0" xyz="0 0 0"/>
      <geometry name="rh_rfdistal_visual">
        <mesh filename="package://sr_description/meshes/components/f_distal/pst/f_distal_pst.dae" scale="0.001 0.001 0.001"/>
      </geometry>
    </visual>
    <collision>
      <origin rpy="0 0 0" xyz="0 0 0"/>
      <geometry name="rh_rfdistal_collision_geom">
        <mesh filename="package://sr_description/meshes/components/f_distal/pst/f_distal_pst.dae" scale="0.001 0.001 0.001"/>
      </geometry>
    </collision>
  </link>
  <joint name="rh_RFJ1" type="revolute">
    <parent link="rh_rfmiddle"/>
    <child link="rh_rfdistal"/>
    <origin rpy="0 0 0" xyz="0 0 0.025"/>
    <axis xyz="1 0 0"/>
    <!-- standard distal joint -->
    <limit effort="2" lower="0" upper="1.5707963267948966" velocity="2.0"/>
    <dynamics damping="0.1"/>
  </joint>
  <gazebo reference="rh_RFJ1">
    <provideFeedback>1</provideFeedback>
    <implicitSpringDamper>1</implicitSpringDamper>
  </gazebo>
  <link name="rh_rftip">
    <inertial>
      <mass value="0.001"/>
      <inertia ixx="0.0" ixy="0.0" ixz="0.0" iyy="0.0" iyz="0.0" izz="0.0"/>
    </inertial>
  </link>
  <joint name="rh_RFtip" type="fixed">
    <parent link="rh_rfdistal"/>
    <child link="rh_rftip"/>
    <origin rpy="0 0 0" xyz="0 0 0.026"/>
  </joint>
  <gazebo reference="rh_rfdistal">
    <sensor name="rh_rfdistal_contact" type="contact">
      <always_on>1</always_on>
      <update_rate>1000.0</update_rate>
      <contact>
        <collision>rh_rfdistal_collision</collision>
        <topic>rh_rfdistal_collision</topic>
      </contact>
      <plugin filename="libgazebo_ros_bumper.so" name="rh_rfdistal_gazebo_ros_bumper_controller">
        <alwaysOn>true</alwaysOn>
        <frameName>rh_rfdistal</frameName>
        <updateRate>100.0</updateRate>
        <bumperTopicName>contacts/rh_rf/distal</bumperTopicName>
      </plugin>
    </sensor>
    <mu1 value="500.0"/>
    <mu2 value="500.0"/>
    <kp value="10000000.0"/>
    <kd value="1.0"/>
    <selfCollide>true</selfCollide>
  </gazebo>
  <link name="rh_lfmetacarpal">
    <inertial>
      <origin rpy="0 0 0" xyz="0 0 0.04"/>
      <mass value="0.030"/>
      <inertia ixx="0.0000145" ixy="0.0" ixz="0.0" iyy="0.00001638" iyz="0.0" izz="0.000004272"/>
    </inertial>
    <visual>
      <origin rpy="0 0.9599 0" xyz="0 0 0"/>
      <axis xyz="0.573576436 0 0.819152044"/>
      <geometry name="rh_lfmetacarpal_visual">
        <mesh filename="package://sr_description/meshes/components/lf_metacarpal/lf_metacarpal_E3M5.dae" scale="0.001 0.001 0.001"/>
      </geometry>
      <material name="Grey"/>
    </visual>
    <collision>
      <origin rpy="0 0 0" xyz="0 0 0.038"/>
      <geometry name="rh_lfmetacarpal_collision_geom">
        <box size="0.018 0.024 0.040"/>
      </geometry>
    </collision>
  </link>
  <joint name="rh_LFJ5" type="revolute">
    <parent link="rh_palm"/>
    <child link="rh_lfmetacarpal"/>
    <origin rpy="0 -0.9599 0" xyz="-0.033 0 0.02071"/>
    <axis xyz="1 0 0"/>
    <limit effort="2" lower="0" upper="0.7853981633974483" velocity="2.0"/>
    <dynamics damping="0.1"/>
  </joint>
  <gazebo reference="rh_LFJ5">
    <provideFeedback>1</provideFeedback>
    <implicitSpringDamper>1</implicitSpringDamper>
  </gazebo>
  <transmission name="rh_lfmetacarpal_transmission">
    <type>sr_mechanism_model/SimpleTransmission</type>
    <actuator name="rh_LFJ5">
      <mechanicalReduction>1</mechanicalReduction>
    </actuator>
    <joint name="rh_LFJ5">
      <hardwareInterface>EffortJointInterface</hardwareInterface>
      <hardwareInterface>PositionJointInterface</hardwareInterface>
    </joint>
  </transmission>
  <gazebo reference="rh_lfmetacarpal">
    <selfCollide>true</selfCollide>
  </gazebo>
  <link name="rh_lfknuckle">
    <inertial>
      <origin rpy="0 0 0" xyz="0 0 0"/>
      <mass value="0.008"/>
      <inertia ixx="0.00000026" ixy="0.0" ixz="0.0" iyy="0.00000026" iyz="0.0" izz="0.00000032"/>
    </inertial>
    <visual>
      <origin rpy="0 0 0" xyz="0 0 0.0005"/>
      <geometry name="rh_lfknuckle_visual">
        <mesh filename="package://sr_description/meshes/components/f_knuckle/f_knuckle_E3M5.dae" scale="0.001 0.001 0.001"/>
      </geometry>
      <material name="LightGrey"/>
    </visual>
    <collision>
      <origin rpy="0 1.5708 0" xyz="0 0 0"/>
      <geometry name="rh_lfknuckle_collision_geom">
        <cylinder length="0.014" radius="0.007"/>
      </geometry>
    </collision>
  </link>
  <joint name="rh_LFJ4" type="revolute">
    <parent link="rh_lfmetacarpal"/>
    <child link="rh_lfknuckle"/>
    <!--<origin xyz="0.033 0 0.095" rpy="0 0 0" />-->
    <origin rpy="0 0.9599 0" xyz="0.05389084 0 0.03773727"/>
    <axis xyz="0 1 0"/>
    <limit effort="2" lower="-0.3490658503988659" upper="0.3490658503988659" velocity="2.0"/>
    <dynamics damping="0.1"/>
  </joint>
  <gazebo reference="rh_LFJ4">
    <provideFeedback>1</provideFeedback>
    <implicitSpringDamper>1</implicitSpringDamper>
  </gazebo>
  <transmission name="rh_lfknuckle_transmission">
    <type>sr_mechanism_model/SimpleTransmission</type>
    <actuator name="rh_LFJ4">
      <mechanicalReduction>1</mechanicalReduction>
    </actuator>
    <joint name="rh_LFJ4">
      <hardwareInterface>EffortJointInterface</hardwareInterface>
      <hardwareInterface>PositionJointInterface</hardwareInterface>
    </joint>
  </transmission>
  <gazebo reference="rh_lfknuckle">
    <!-- knuckle is not highly exposed, so bumper is not useful -->
    <material>Gazebo/Grey</material>
  </gazebo>
  <link name="rh_lfproximal">
    <inertial>
      <mass value="0.030"/>
      <origin xyz="0 0 0.0225"/>
      <inertia ixx="0.0000098" ixy="0.0" ixz="0.0" iyy="0.00001" iyz="0.0" izz="0.0000018"/>
    </inertial>
    <visual>
      <origin rpy="0 0 0" xyz="0 0 0"/>
      <geometry name="rh_lfproximal_visual">
        <mesh filename="package://sr_description/meshes/components/f_proximal/f_proximal_E3M5.dae" scale="0.001 0.001 0.001"/>
      </geometry>
      <material name="Grey"/>
    </visual>
    <collision>
      <origin rpy="0 0 0" xyz="0 0 0.025"/>
      <geometry name="rh_lfproximal_collision_geom">
        <cylinder length="0.040" radius="0.007"/>
      </geometry>
    </collision>
  </link>
  <joint name="rh_LFJ3" type="revolute">
    <parent link="rh_lfknuckle"/>
    <child link="rh_lfproximal"/>
    <origin rpy="0 0 0" xyz="0 0 0"/>
    <axis xyz="1 0 0"/>
    <limit effort="2" lower="-0.2617993877991494" upper="1.5707963267948966" velocity="2.0"/>
    <dynamics damping="0.1"/>
  </joint>
  <gazebo reference="rh_LFJ3">
    <provideFeedback>1</provideFeedback>
    <implicitSpringDamper>1</implicitSpringDamper>
  </gazebo>
  <transmission name="rh_lfproximal_transmission">
    <type>sr_mechanism_model/SimpleTransmission</type>
    <actuator name="rh_LFJ3">
      <mechanicalReduction>1</mechanicalReduction>
    </actuator>
    <joint name="rh_LFJ3">
      <hardwareInterface>EffortJointInterface</hardwareInterface>
      <hardwareInterface>PositionJointInterface</hardwareInterface>
    </joint>
  </transmission>
  <gazebo reference="rh_lfproximal">
    <selfCollide>true</selfCollide>
  </gazebo>
  <link name="rh_lfmiddle">
    <inertial>
      <origin rpy="0 0 0" xyz="0 0 0.0125"/>
      <mass value="0.017"/>
      <inertia ixx="0.0000026" ixy="0.0" ixz="0.0" iyy="0.0000027" iyz="0.0" izz="0.00000087"/>
    </inertial>
    <visual>
      <origin rpy="0 0 0" xyz="0 0 0"/>
      <geometry name="rh_lfmiddle_visual">
        <mesh filename="package://sr_description/meshes/components/f_middle/f_middle_E3M5.dae" scale="0.001 0.001 0.001"/>
      </geometry>
      <material name="Grey"/>
    </visual>
    <collision>
      <origin rpy="0 0 0" xyz="0 0 0.0125"/>
      <geometry name="rh_lfmiddle_collision_geom">
        <cylinder length="0.025" radius="0.007"/>
      </geometry>
    </collision>
    <collision>
      <origin rpy="0 0 0" xyz="0 0 0.0"/>
      <geometry>
        <sphere radius="0.007"/>
      </geometry>
    </collision>
    <collision>
      <origin rpy="0 0 0" xyz="0 0 0.025"/>
      <geometry>
        <sphere radius="0.007"/>
      </geometry>
    </collision>
  </link>
  <joint name="rh_LFJ2" type="revolute">
    <parent link="rh_lfproximal"/>
    <child link="rh_lfmiddle"/>
    <origin rpy="0 0 0" xyz="0 0 0.045"/>
    <axis xyz="1 0 0"/>
    <limit effort="2" lower="0" upper="1.5707963267948966" velocity="2.0"/>
    <dynamics damping="0.1"/>
  </joint>
  <gazebo reference="rh_LFJ2">
    <provideFeedback>1</provideFeedback>
    <implicitSpringDamper>1</implicitSpringDamper>
  </gazebo>
  <transmission name="rh_lfmiddle_transmission">
    <type>sr_mechanism_model/J0Transmission</type>
    <actuator name="rh_LFJ0">
      <mechanicalReduction>1</mechanicalReduction>
    </actuator>
    <joint name="rh_LFJ1">
      <hardwareInterface>EffortJointInterface</hardwareInterface>
      <hardwareInterface>PositionJointInterface</hardwareInterface>
    </joint>
  </transmission>
  <gazebo reference="rh_lfmiddle">
    <selfCollide>true</selfCollide>
  </gazebo>
  <link name="rh_lfdistal">
    <inertial>
      <mass value="0.012"/>
      <origin xyz="0 0 0.012"/>
      <inertia ixx="0.00000094" ixy="0.0" ixz="0.0" iyy="0.0000011" iyz="0.0" izz="0.00000053"/>
    </inertial>
    <visual>
      <origin rpy="0 0 0" xyz="0 0 0"/>
      <geometry name="rh_lfdistal_visual">
        <mesh filename="package://sr_description/meshes/components/f_distal/pst/f_distal_pst.dae" scale="0.001 0.001 0.001"/>
      </geometry>
    </visual>
    <collision>
      <origin rpy="0 0 0" xyz="0 0 0"/>
      <geometry name="rh_lfdistal_collision_geom">
        <mesh filename="package://sr_description/meshes/components/f_distal/pst/f_distal_pst.dae" scale="0.001 0.001 0.001"/>
      </geometry>
    </collision>
  </link>
  <joint name="rh_LFJ1" type="revolute">
    <parent link="rh_lfmiddle"/>
    <child link="rh_lfdistal"/>
    <origin rpy="0 0 0" xyz="0 0 0.025"/>
    <axis xyz="1 0 0"/>
    <!-- standard distal joint -->
    <limit effort="2" lower="0" upper="1.5707963267948966" velocity="2.0"/>
    <dynamics damping="0.1"/>
  </joint>
  <gazebo reference="rh_LFJ1">
    <provideFeedback>1</provideFeedback>
    <implicitSpringDamper>1</implicitSpringDamper>
  </gazebo>
  <link name="rh_lftip">
    <inertial>
      <mass value="0.001"/>
      <inertia ixx="0.0" ixy="0.0" ixz="0.0" iyy="0.0" iyz="0.0" izz="0.0"/>
    </inertial>
  </link>
  <joint name="rh_LFtip" type="fixed">
    <parent link="rh_lfdistal"/>
    <child link="rh_lftip"/>
    <origin rpy="0 0 0" xyz="0 0 0.026"/>
  </joint>
  <gazebo reference="rh_lfdistal">
    <sensor name="rh_lfdistal_contact" type="contact">
      <always_on>1</always_on>
      <update_rate>1000.0</update_rate>
      <contact>
        <collision>rh_lfdistal_collision</collision>
        <topic>rh_lfdistal_collision</topic>
      </contact>
      <plugin filename="libgazebo_ros_bumper.so" name="rh_lfdistal_gazebo_ros_bumper_controller">
        <alwaysOn>true</alwaysOn>
        <frameName>rh_lfdistal</frameName>
        <updateRate>100.0</updateRate>
        <bumperTopicName>contacts/rh_lf/distal</bumperTopicName>
      </plugin>
    </sensor>
    <mu1 value="500.0"/>
    <mu2 value="500.0"/>
    <kp value="10000000.0"/>
    <kd value="1.0"/>
    <selfCollide>true</selfCollide>
  </gazebo>
  <link name="rh_thbase">
    <inertial>
      <mass value="0.010"/>
      <origin rpy="0 0 0" xyz="0 0 0"/>
      <inertia ixx="0.00000016" ixy="0.0" ixz="0.0" iyy="0.00000016" iyz="0.0" izz="0.00000016"/>
    </inertial>
    <visual>
      <origin rpy="0 0 0" xyz="0 0 0"/>
      <geometry name="rh_thbase_visual">
        <box size="0.001 0.001 0.001"/>
      </geometry>
      <material name="shadow_thbase_material">
        <color rgba="0.5 0.5 0.5 1.0"/>
      </material>
    </visual>
    <collision>
      <origin rpy="0 0 0" xyz="0 0 0"/>
      <geometry name="rh_thbase_collision_geom">
        <sphere radius="0.011"/>
      </geometry>
    </collision>
  </link>
  <joint name="rh_THJ5" type="revolute">
    <parent link="rh_palm"/>
    <child link="rh_thbase"/>
    <origin rpy="-0.7853981633974483 0 -1.5707963267948966" xyz="0.034 -0.00858 0.029"/>
    <axis xyz="0 0 -1"/>
    <limit effort="5.0" lower="-1.0471975511965976" upper="1.0471975511965976" velocity="4.0"/>
    <dynamics damping="0.2"/>
  </joint>
  <gazebo reference="rh_THJ5">
    <provideFeedback>1</provideFeedback>
    <implicitSpringDamper>1</implicitSpringDamper>
  </gazebo>
  <transmission name="rh_thbase_transmission">
    <type>sr_mechanism_model/SimpleTransmission</type>
    <actuator name="rh_THJ5">
      <mechanicalReduction>1</mechanicalReduction>
    </actuator>
    <joint name="rh_THJ5">
      <hardwareInterface>EffortJointInterface</hardwareInterface>
      <hardwareInterface>PositionJointInterface</hardwareInterface>
    </joint>
  </transmission>
  <gazebo reference="rh_thbase">
    <!-- base is inside the proximal and not exposed, so bumper is not needed -->
    <selfCollide>false</selfCollide>
  </gazebo>
  <link name="rh_thproximal">
    <inertial>
      <mass value="0.040"/>
      <origin rpy="0 0 0" xyz="0 0 0.019"/>
      <inertia ixx="0.0000136" ixy="0.0" ixz="0.0" iyy="0.0000136" iyz="0.0" izz="0.00000313"/>
    </inertial>
    <visual>
      <origin rpy="0 0 0" xyz="0 0 0"/>
      <geometry name="rh_thproximal_visual">
        <mesh filename="package://sr_description/meshes/components/th_proximal/th_proximal_E3M5.dae" scale="0.001 0.001 0.001"/>
      </geometry>
      <material name="shadow_thproximal_material">
        <color rgba="0.2 0.2 0.2 1.0"/>
      </material>
    </visual>
    <collision>
      <origin rpy="0 0 0" xyz="0 0 0.020"/>
      <geometry name="rh_thproximal_collision_geom">
        <cylinder length="0.018" radius="0.012"/>
      </geometry>
    </collision>
  </link>
  <joint name="rh_THJ4" type="revolute">
    <parent link="rh_thbase"/>
    <child link="rh_thproximal"/>
    <origin rpy="0 0 0" xyz="0 0 0"/>
    <axis xyz="0 1 0"/>
    <limit effort="3" lower="0.0" upper="1.2217304763960306" velocity="4.0"/>
    <dynamics damping="0.2"/>
  </joint>
  <gazebo reference="rh_THJ4">
    <provideFeedback>1</provideFeedback>
    <implicitSpringDamper>1</implicitSpringDamper>
  </gazebo>
  <transmission name="rh_thproximal_transmission">
    <type>sr_mechanism_model/SimpleTransmission</type>
    <actuator name="rh_THJ4">
      <mechanicalReduction>1</mechanicalReduction>
    </actuator>
    <joint name="rh_THJ4">
      <hardwareInterface>EffortJointInterface</hardwareInterface>
      <hardwareInterface>PositionJointInterface</hardwareInterface>
    </joint>
  </transmission>
  <gazebo reference="rh_thproximal">
    <selfCollide>false</selfCollide>
  </gazebo>
  <link name="rh_thhub">
    <inertial>
      <mass value="0.005"/>
      <origin rpy="0 0 0" xyz="0 0 0"/>
      <inertia ixx="0.000001" ixy="0.0" ixz="0.0" iyy="0.000001" iyz="0.0" izz="0.0000003"/>
    </inertial>
    <visual>
      <origin rpy="0 0 0" xyz="0 0 0"/>
      <geometry name="rh_thhub_visual">
        <box size="0.001 0.001 0.001"/>
      </geometry>
      <material name="shadow_thhub_material">
        <color rgba="0.7 0.7 0.7 1.0"/>
      </material>
    </visual>
    <collision>
      <origin rpy="0 0 0" xyz="0 0 0"/>
      <geometry name="rh_thhub_collision_geom">
        <sphere radius="0.010"/>
      </geometry>
    </collision>
  </link>
  <joint name="rh_THJ3" type="revolute">
    <parent link="rh_thproximal"/>
    <child link="rh_thhub"/>
    <origin rpy="0 0 0" xyz="0 0 0.038"/>
    <axis xyz="0 1 0"/>
    <limit effort="2.0" lower="-0.20943951023931953" upper="0.20943951023931953" velocity="4.0"/>
    <dynamics damping="0.2"/>
  </joint>
  <gazebo reference="rh_THJ3">
    <provideFeedback>1</provideFeedback>
    <implicitSpringDamper>1</implicitSpringDamper>
  </gazebo>
  <transmission name="rh_thhub_transmission">
    <type>sr_mechanism_model/SimpleTransmission</type>
    <actuator name="rh_THJ3">
      <mechanicalReduction>1</mechanicalReduction>
    </actuator>
    <joint name="rh_THJ3">
      <hardwareInterface>EffortJointInterface</hardwareInterface>
      <hardwareInterface>PositionJointInterface</hardwareInterface>
    </joint>
  </transmission>
  <gazebo reference="rh_thhub">
    <!-- hub is inside the proximal and not exposed, so bumper is not needed -->
    <selfCollide>false</selfCollide>
  </gazebo>
  <link name="rh_thmiddle">
    <inertial>
      <mass value="0.020"/>
      <origin rpy="0 0 0" xyz="0 0 0.016"/>
      <inertia ixx="0.0000051" ixy="0.0" ixz="0.0" iyy="0.0000051" iyz="0.0" izz="0.00000121"/>
    </inertial>
    <visual>
      <origin rpy="0 0 0" xyz="0 0 0"/>
      <geometry name="rh_thmiddle_visual">
        <mesh filename="package://sr_description/meshes/components/th_middle/th_middle_E3M5.dae" scale="0.001 0.001 0.001"/>
      </geometry>
      <material name="shadow_thmiddle_material">
        <color rgba="0.2 0.2 0.2 1.0"/>
      </material>
    </visual>
    <collision>
      <origin rpy="0 0 0" xyz="0 0 0.012"/>
      <geometry name="rh_thmiddle_collision_geom">
        <cylinder length="0.018" radius="0.011"/>
      </geometry>
    </collision>
    <collision>
      <origin rpy="0 0 0" xyz="0 0 0.019"/>
      <geometry>
        <sphere radius="0.011"/>
      </geometry>
    </collision>
  </link>
  <joint name="rh_THJ2" type="revolute">
    <parent link="rh_thhub"/>
    <child link="rh_thmiddle"/>
    <origin rpy="0 0 0" xyz="0 0 0"/>
    <axis xyz="1 0 0"/>
    <limit effort="2.0" lower="-0.6981317007977318" upper="0.6981317007977318" velocity="2.0"/>
    <dynamics damping="0.1"/>
  </joint>
  <gazebo reference="rh_THJ2">
    <provideFeedback>1</provideFeedback>
    <implicitSpringDamper>1</implicitSpringDamper>
  </gazebo>
  <transmission name="rh_thmiddle_transmission">
    <type>sr_mechanism_model/SimpleTransmission</type>
    <actuator name="rh_THJ2">
      <mechanicalReduction>1</mechanicalReduction>
    </actuator>
    <joint name="rh_THJ2">
      <hardwareInterface>EffortJointInterface</hardwareInterface>
      <hardwareInterface>PositionJointInterface</hardwareInterface>
    </joint>
  </transmission>
  <gazebo reference="rh_thmiddle">
  </gazebo>
  <!-- common -->
  <link name="rh_thdistal">
    <inertial>
      <mass value="0.016"/>
      <origin rpy="0 0 0" xyz="0 0 0.01375"/>
      <inertia ixx="0.0000021" ixy="0.0" ixz="0.0" iyy="0.0000022" iyz="0.0" izz="0.000001"/>
    </inertial>
    <visual>
      <origin rpy="0 0 0" xyz="0 0 0"/>
      <geometry name="rh_thdistal_visual">
        <mesh filename="package://sr_description/meshes/components/th_distal/pst/th_distal_pst.dae" scale="0.001 0.001 0.001"/>
      </geometry>
      <material name="shadow_thmiddle_material">
        <color rgba="0.2 0.2 0.2 1.0"/>
      </material>
    </visual>
    <collision>
      <origin rpy="0 0 0" xyz="0 0 0"/>
      <geometry name="rh_thmiddle_collision_geom">
        <mesh filename="package://sr_description/meshes/components/th_distal/pst/th_distal_pst.dae" scale="0.001 0.001 0.001"/>
      </geometry>
    </collision>
  </link>
  <joint name="rh_THJ1" type="revolute">
    <parent link="rh_thmiddle"/>
    <child link="rh_thdistal"/>
    <origin rpy="0 0 0" xyz="0 0 0.032"/>
    <axis xyz="1 0 0"/>
    <limit effort="1.0" lower="-0.2617993877991494" upper="1.5707963267948966" velocity="4.0"/>
    <dynamics damping="0.2"/>
  </joint>
  <gazebo reference="rh_THJ1">
    <provideFeedback>1</provideFeedback>
    <implicitSpringDamper>1</implicitSpringDamper>
  </gazebo>
  <link name="rh_thtip">
    <inertial>
      <mass value="0.001"/>
      <inertia ixx="0.0" ixy="0.0" ixz="0.0" iyy="0.0" iyz="0.0" izz="0.0"/>
    </inertial>
  </link>
  <joint name="rh_thtip" type="fixed">
    <parent link="rh_thdistal"/>
    <child link="rh_thtip"/>
    <origin rpy="0 0 0" xyz="0 0 0.0275"/>
  </joint>
  <gazebo reference="rh_thdistal">
    <sensor name="rh_thdistal_contact" type="contact">
      <always_on>1</always_on>
      <update_rate>1000.0</update_rate>
      <contact>
        <collision>rh_thdistal_collision</collision>
        <topic>rh_thdistal_collision</topic>
      </contact>
      <plugin filename="libgazebo_ros_bumper.so" name="rh_thdistal_gazebo_ros_bumper_controller">
        <alwaysOn>true</alwaysOn>
        <frameName>rh_thdistal</frameName>
        <updateRate>100.0</updateRate>
        <bumperTopicName>contacts/rh_th/distal</bumperTopicName>
      </plugin>
    </sensor>
    <mu1 value="500.0"/>
    <mu2 value="500.0"/>
    <kp value="10000000.0"/>
    <kd value="1.0"/>
    <selfCollide>true</selfCollide>
  </gazebo>
  <transmission name="rh_thdistal_transmission">
    <type>sr_mechanism_model/SimpleTransmission</type>
    <actuator name="rh_THJ1">
      <mechanicalReduction>1</mechanicalReduction>
    </actuator>
    <joint name="rh_THJ1">
      <hardwareInterface>EffortJointInterface</hardwareInterface>
      <hardwareInterface>PositionJointInterface</hardwareInterface>
    </joint>
  </transmission>
  <!-- make connection between ur10e arm and shadow hand -->
  <joint name="ra_arm_to_hand" type="fixed">
    <parent link="ur10e_tool0"/>
    <child link="rh_forearm"/>
    <origin rpy="0.0 0.0 0.0" xyz="0.0 0.0 0.0"/>
  </joint>
</robot>
